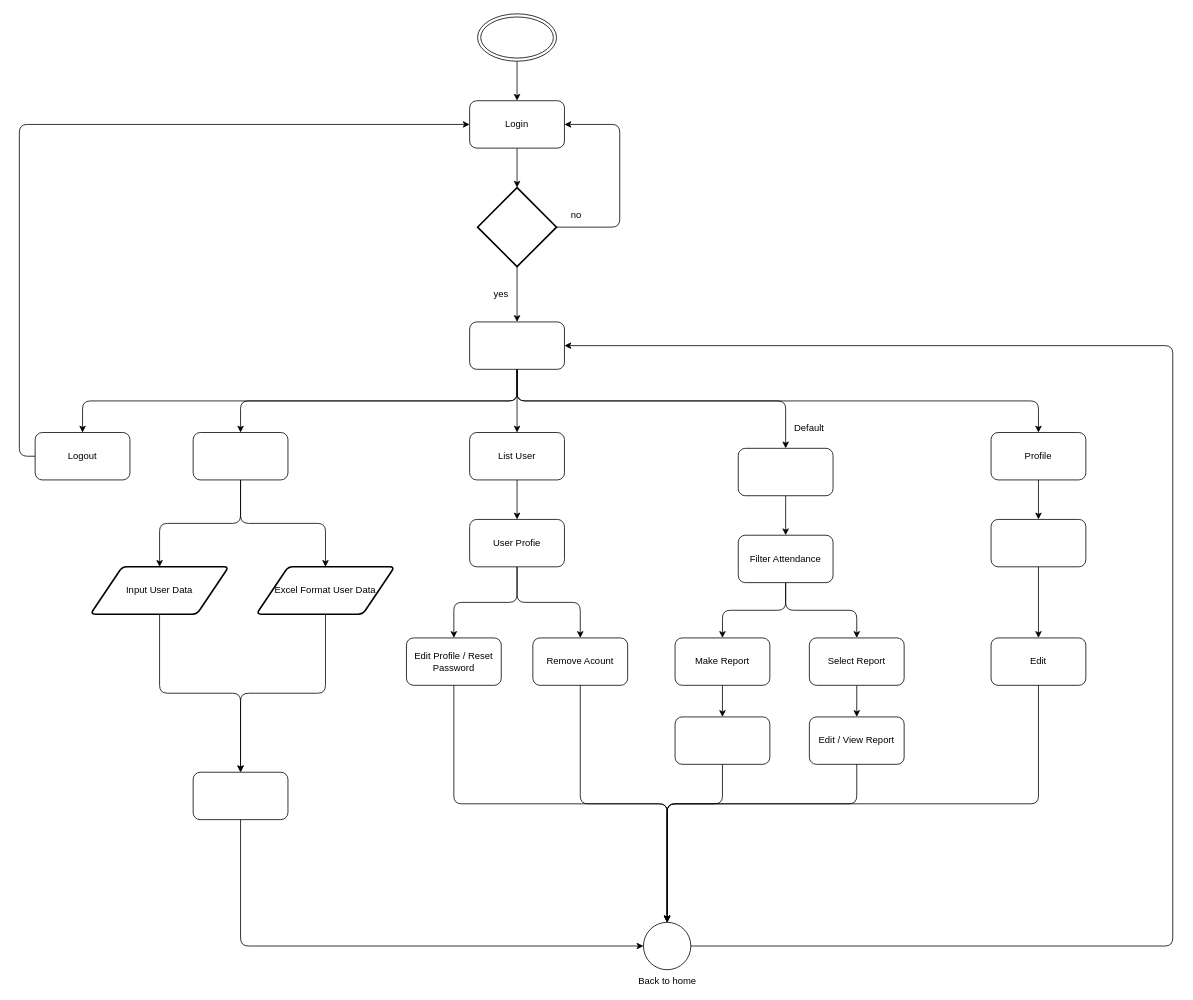
Image size: 1193x1000. Some labels were removed from this diagram. Here are the shapes that lost their labels. From the top down, the centre of each, then its label:
(517,37): Admin
(516,226): Valid Admin?
(516,345): Admin page
(240,456): Registration User
(785,472): Daily Attendance
(1038,543): Admin Profile
(722,740): Save As PDF
(240,795): Create Uset Account
